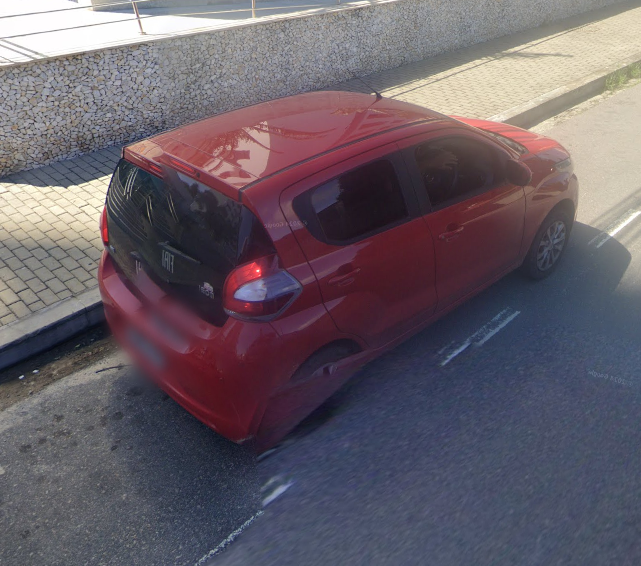car: (89, 64, 584, 464)
